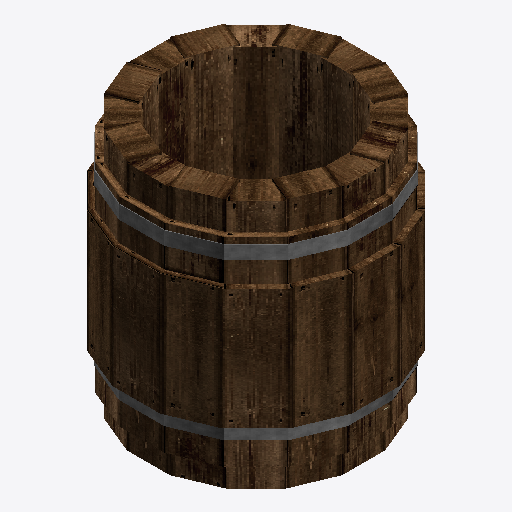
Isometric view (azimuth 45°, elevation 35.3°) of a Minecraft model made of 83 cuboids, textured from the same repository.
Parts seen in each view (by area): element 41, element 48, element 42, element 47, element 43, element 1, element 2, element 9, element 8, element 11, element 10, element 25 (+26 smaller).
Part boxes in pixels (left/top/right/bottom): element 41: left=222, top=283, right=289, bottom=427; element 48: left=160, top=270, right=223, bottom=427; element 42: left=287, top=269, right=351, bottom=427; element 47: left=112, top=243, right=164, bottom=412; element 43: left=347, top=243, right=399, bottom=412; element 1: left=227, top=25, right=284, bottom=178; element 2: left=170, top=24, right=239, bottom=176; element 9: left=272, top=24, right=341, bottom=176; element 8: left=170, top=166, right=239, bottom=487; element 11: left=272, top=166, right=341, bottom=487; element 10: left=226, top=179, right=285, bottom=488; element 25: left=224, top=232, right=287, bottom=466.
Bounding box in the file's own units: 17.8 × 18.6 × 17.8.